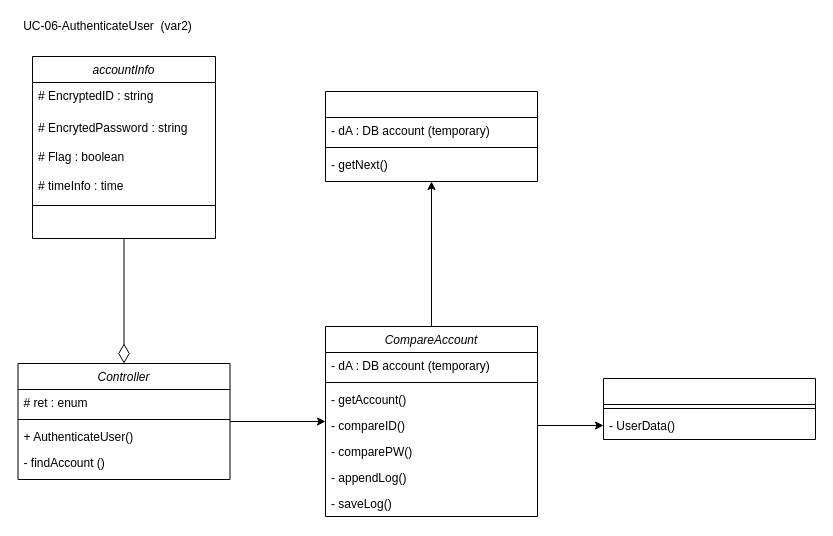
This 833x536 diagram has some shape labels left out. Each missing label, with the box of its shape:
DatabaseConnection: (324, 90, 538, 182)
UserModuleConnection: (602, 378, 816, 440)
